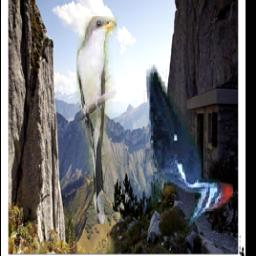Cuckoo: (76, 16, 117, 224)
Woodpecker: (143, 66, 233, 233)
